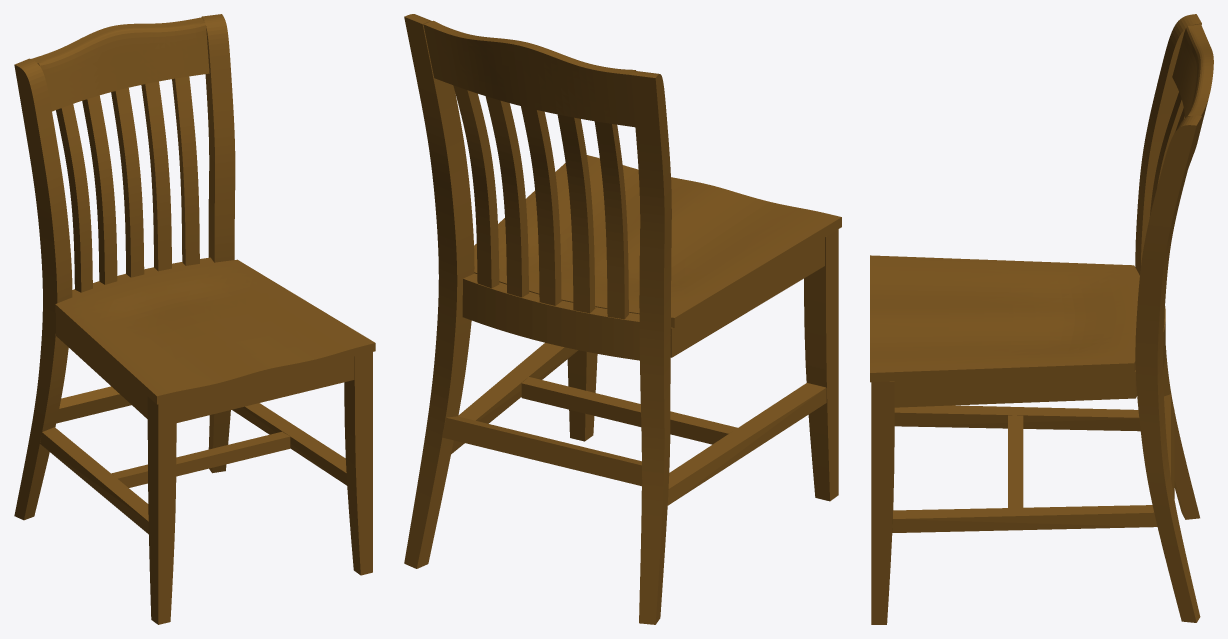
File: ella_chair_f.obj
3 renders of one model, left to right at view 1: azimuth 30°, elevation 25°; view 2: azimuth 150°, elevation 25°; view 3: azimuth 270°, elevation 25°, orthographic. The views are drawn at different scales.
Visible parts, largest first — view 1: ella_Chair.000_Cube.002, BackLegs.001_Cube.003, FrontLegs.001_Cube.006, ChairBack.001_Cube.014, SeatBackSupports.002_Cube.010, SeatBackSupports.001_Cube.015, SideSupports.001_Cube.009, FrontRail.001_Cube.007, SeatBackSupports.003_Cube.018, CenterSupport.001_Cube.011, SideRails.001_Cube.005, BackSupport.001_Cube.012 (+1 smaller); view 2: BackLegs.001_Cube.003, ella_Chair.000_Cube.002, ChairBack.001_Cube.014, FrontLegs.001_Cube.006, SeatBackSupports.002_Cube.010, SeatBackSupports.001_Cube.015, SideSupports.001_Cube.009, BackRail.001_Cube.013, BackSupport.001_Cube.012, SideRails.001_Cube.005, SeatBackSupports.003_Cube.018, CenterSupport.001_Cube.011; view 3: ella_Chair.000_Cube.002, BackLegs.001_Cube.003, SideSupports.001_Cube.009, SideRails.001_Cube.005, FrontLegs.001_Cube.006, ChairBack.001_Cube.014, CenterSupport.001_Cube.011, SeatBackSupports.001_Cube.015, BackSupport.001_Cube.012.
Part boxes in pixels (bbox=[...]): ella_Chair.000_Cube.002: bbox=[55, 259, 375, 404]; BackLegs.001_Cube.003: bbox=[14, 14, 235, 520]; FrontLegs.001_Cube.006: bbox=[147, 352, 372, 624]; ChairBack.001_Cube.014: bbox=[31, 17, 209, 111]; SeatBackSupports.002_Cube.010: bbox=[82, 81, 171, 284]; SeatBackSupports.001_Cube.015: bbox=[56, 76, 199, 292]; SideSupports.001_Cube.009: bbox=[40, 403, 347, 534]; FrontRail.001_Cube.007: bbox=[176, 356, 354, 422]; SeatBackSupports.003_Cube.018: bbox=[111, 88, 144, 277]; CenterSupport.001_Cube.011: bbox=[111, 431, 290, 487]; SideRails.001_Cube.005: bbox=[56, 313, 147, 418]; BackSupport.001_Cube.012: bbox=[56, 386, 131, 423]; BackLegs.001_Cube.003: bbox=[404, 14, 671, 624]; ella_Chair.000_Cube.002: bbox=[474, 155, 841, 327]; ChairBack.001_Cube.014: bbox=[423, 20, 635, 127]; FrontLegs.001_Cube.006: bbox=[567, 229, 838, 501]; SeatBackSupports.002_Cube.010: bbox=[485, 96, 595, 313]; SeatBackSupports.001_Cube.015: bbox=[453, 85, 628, 319]; SideSupports.001_Cube.009: bbox=[451, 343, 826, 505]; BackRail.001_Cube.013: bbox=[462, 273, 639, 360]; BackSupport.001_Cube.012: bbox=[442, 416, 642, 486]; SideRails.001_Cube.005: bbox=[670, 237, 824, 357]; SeatBackSupports.003_Cube.018: bbox=[521, 106, 561, 305]; CenterSupport.001_Cube.011: bbox=[521, 377, 737, 444]; ella_Chair.000_Cube.002: bbox=[870, 255, 1139, 382]; BackLegs.001_Cube.003: bbox=[1135, 14, 1201, 622]; SideSupports.001_Cube.009: bbox=[892, 405, 1157, 532]; SideRails.001_Cube.005: bbox=[894, 370, 1137, 407]; FrontLegs.001_Cube.006: bbox=[871, 381, 894, 624]; ChairBack.001_Cube.014: bbox=[1172, 24, 1213, 161]; CenterSupport.001_Cube.011: bbox=[1008, 415, 1023, 507]; SeatBackSupports.001_Cube.015: bbox=[1149, 92, 1191, 217]; BackSupport.001_Cube.012: bbox=[1164, 394, 1174, 498].
Size of the model in its own units: 4.57 by 9.17 by 5.65.
